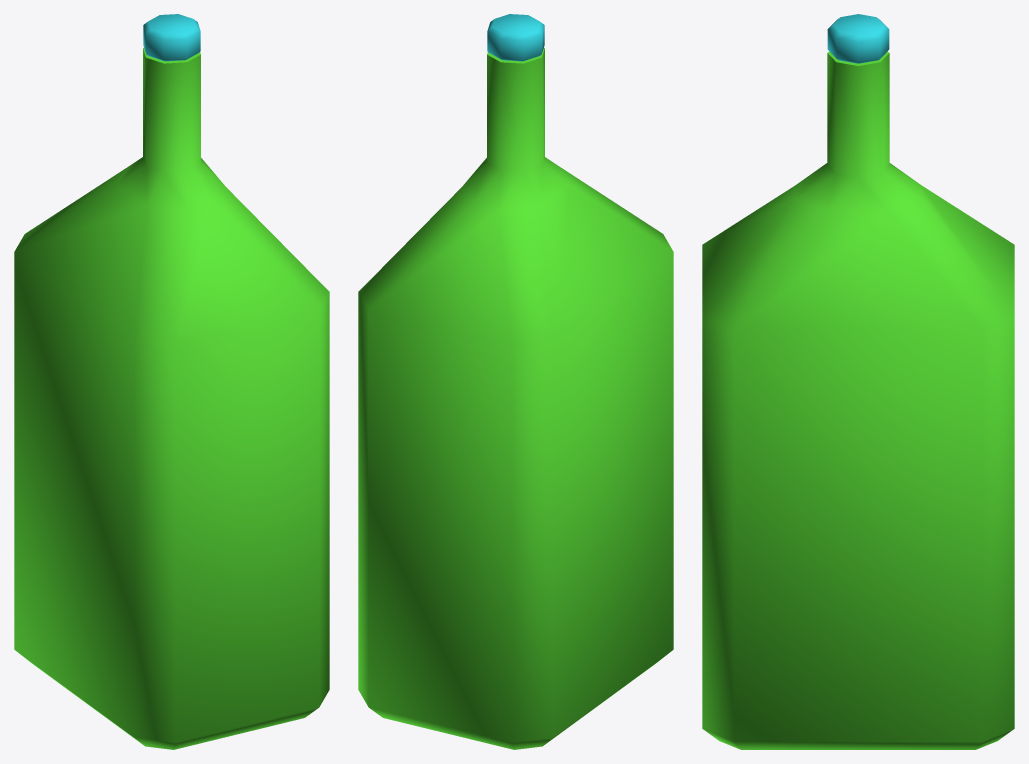
The model's file is karaf met drank.fbx.
The picture shows the model from 3 angles, left to right: view 1: azimuth 30°, elevation 25°; view 2: azimuth 150°, elevation 25°; view 3: azimuth 270°, elevation 25°; orthographic projection. The views are drawn at different scales.
Parts seen in each view (by area): view 1: DrankFles; view 2: DrankFles; view 3: DrankFles.
Boxes of the visible parts, <box> form: DrankFles: <box>14,14,329,749</box>; DrankFles: <box>358,14,673,749</box>; DrankFles: <box>702,14,1014,749</box>.
Size of the model in its own units: 11.66 by 37.7 by 15.63.
